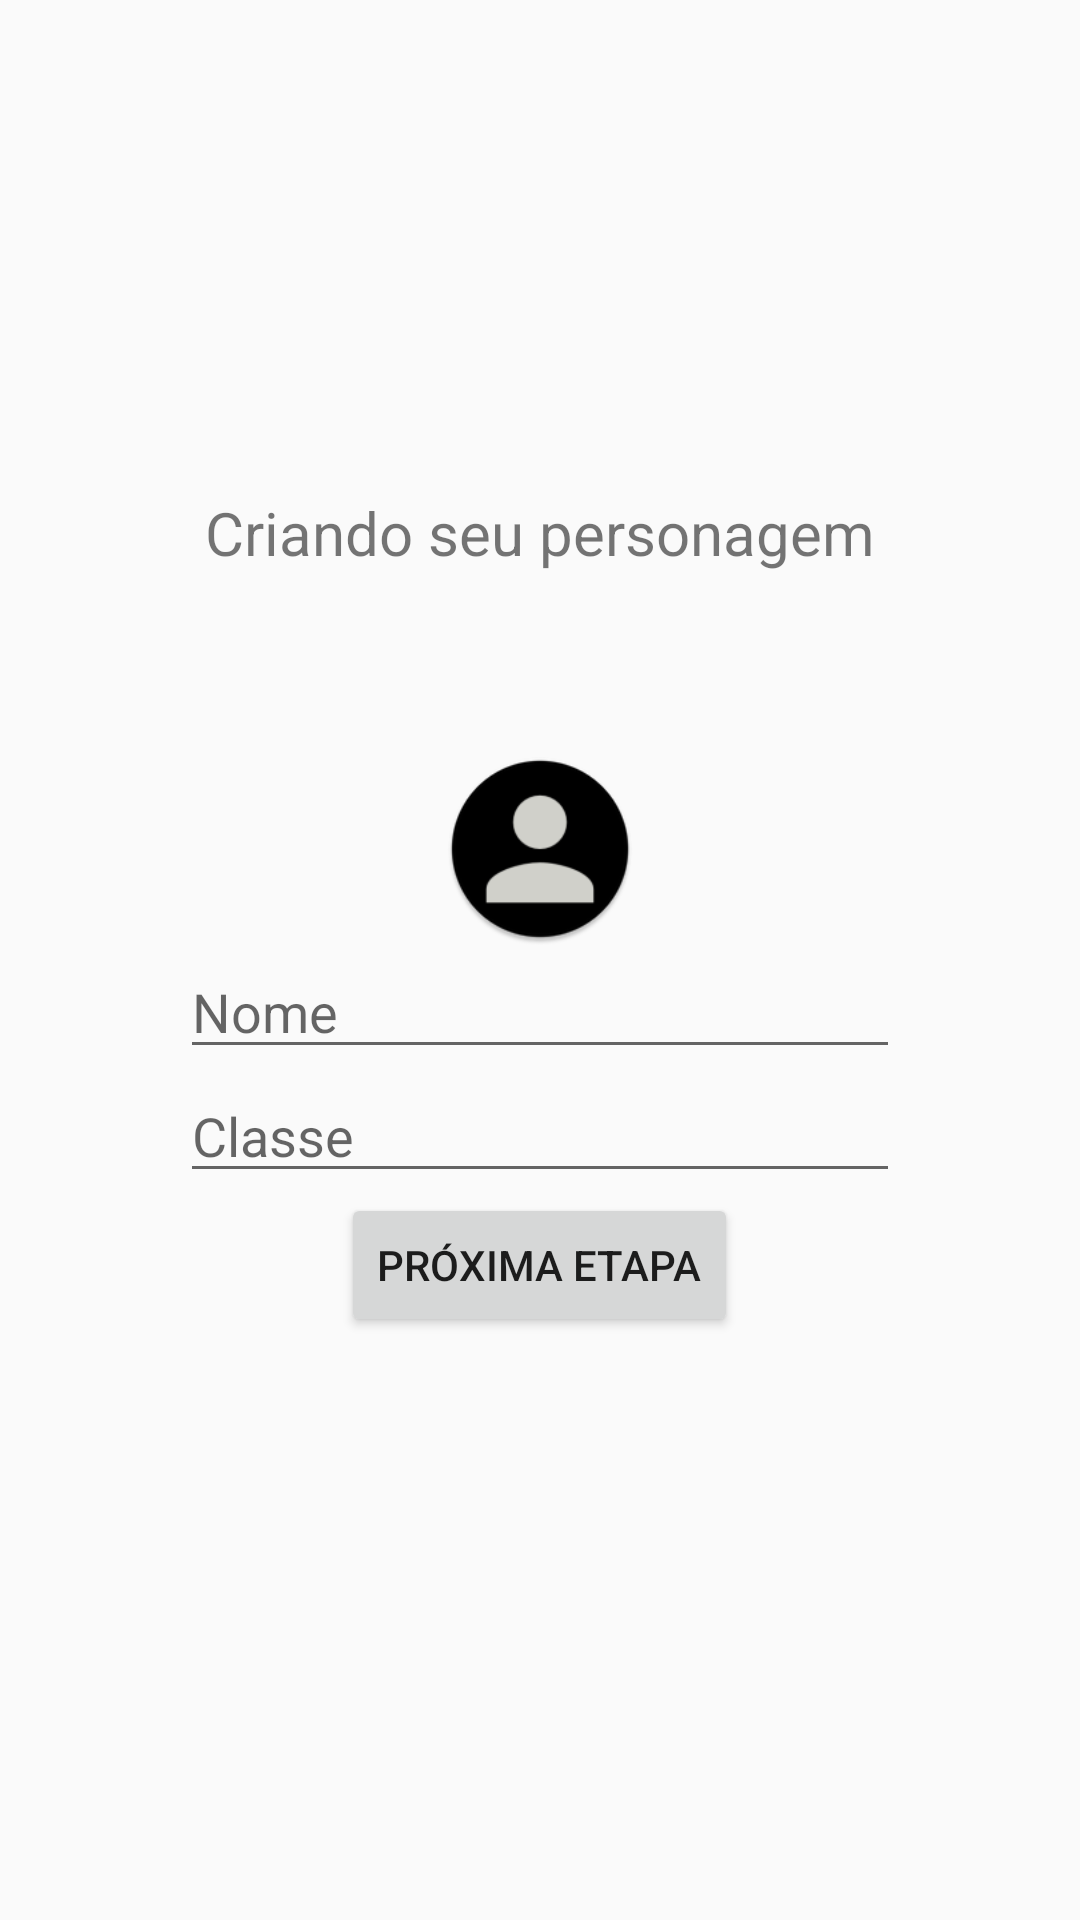

Where to tap for icons on this 1080px×1920px app screen, as [x,y]:
criar personagem: [540,851]
